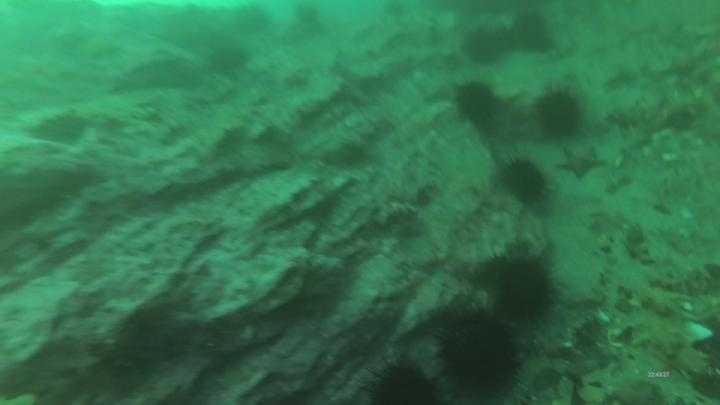echinus: (433, 309, 525, 400), (490, 252, 559, 326), (359, 356, 445, 404), (532, 85, 586, 143), (497, 156, 550, 207), (452, 80, 500, 127), (509, 9, 556, 57), (31, 111, 90, 148), (460, 25, 504, 68), (207, 41, 251, 77), (230, 4, 273, 36), (292, 2, 327, 34)
holothurian: (622, 284, 711, 381), (603, 85, 710, 133)
starfish: (555, 143, 607, 183)
